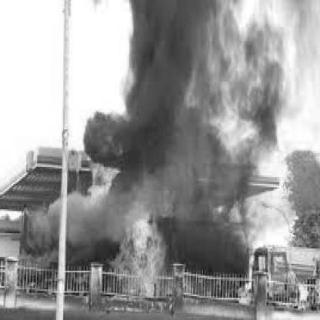Fire: (79, 153, 175, 303)
Smoke: (49, 0, 320, 248)
